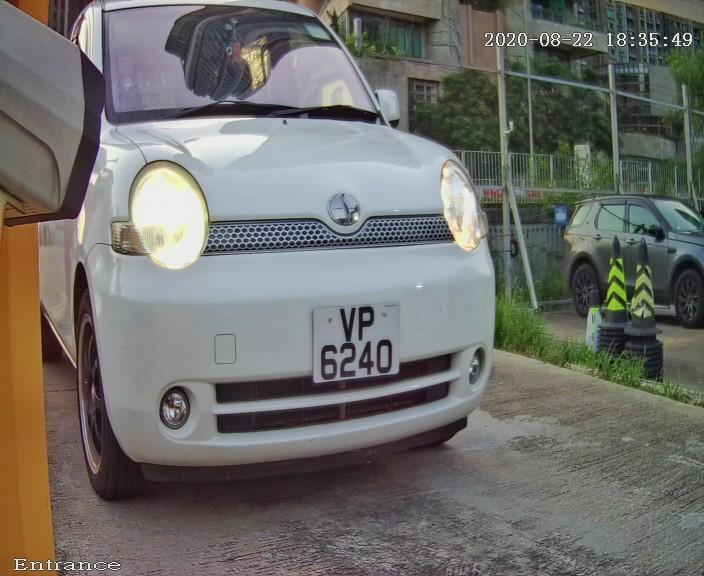Car: (4, 1, 554, 520)
License Plate: (302, 291, 409, 397)
